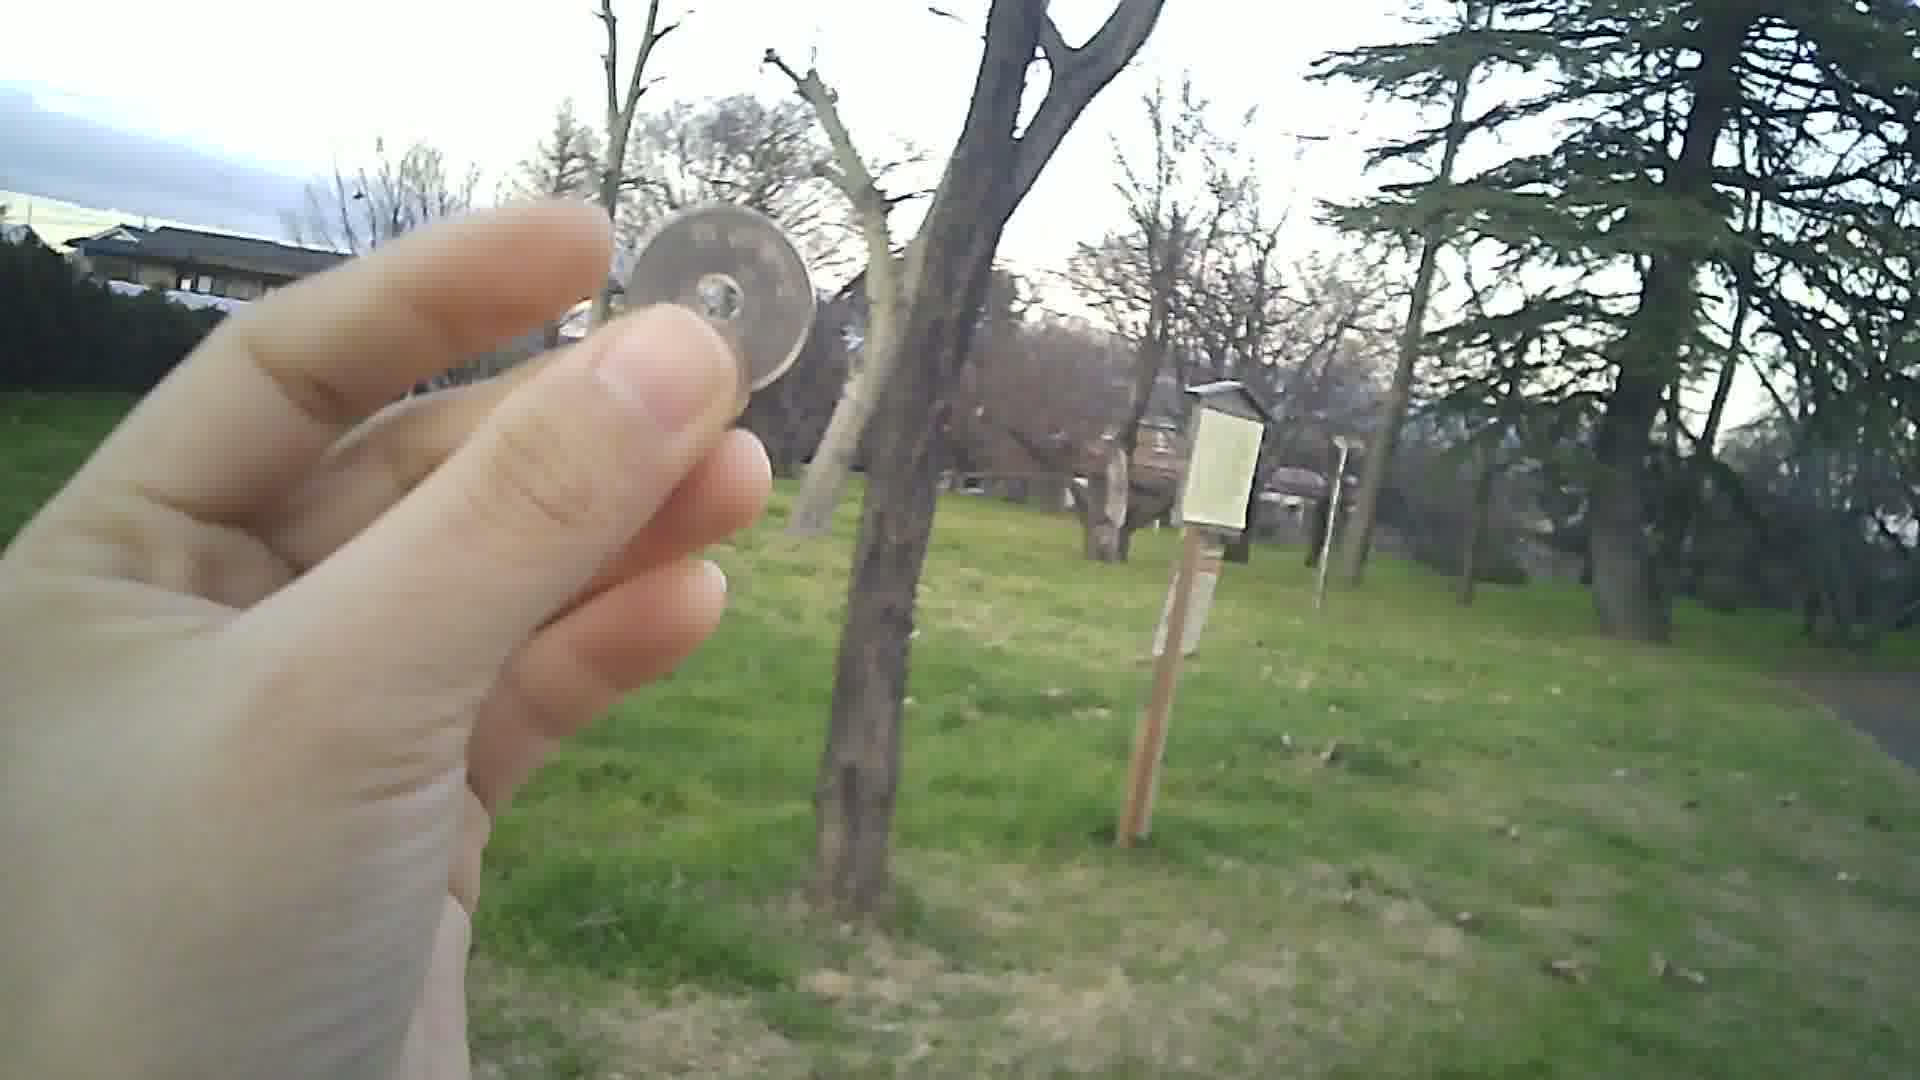50 Yen: (616, 203, 814, 400)
